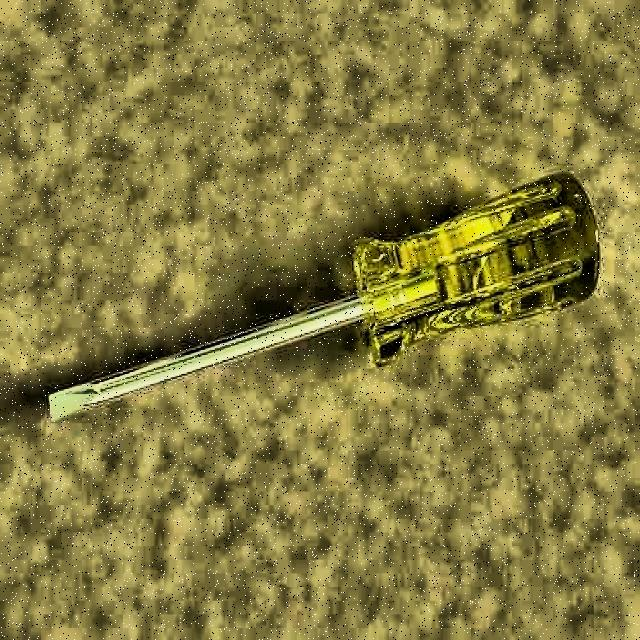screwdriver: (44, 172, 600, 424)
